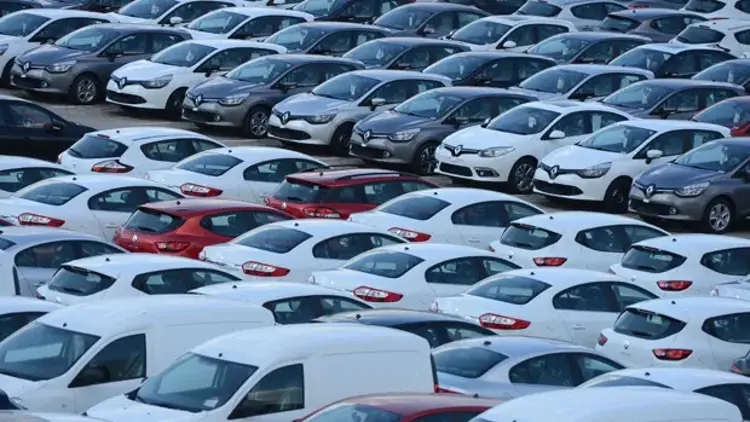Car: (83, 323, 439, 422), (0, 295, 276, 413), (435, 100, 638, 193), (533, 119, 731, 212), (431, 269, 661, 348), (349, 87, 539, 175), (267, 70, 452, 154), (182, 54, 364, 138), (11, 23, 193, 104), (106, 39, 288, 119), (309, 243, 525, 310), (199, 219, 408, 282), (433, 336, 632, 399), (0, 174, 187, 241), (348, 188, 550, 249), (594, 296, 750, 371), (628, 138, 750, 232), (489, 211, 672, 271), (36, 253, 243, 305), (114, 198, 293, 258), (146, 146, 329, 203), (471, 387, 743, 422), (577, 367, 750, 422), (0, 9, 120, 86), (57, 126, 229, 178), (265, 168, 440, 219), (609, 234, 750, 297), (0, 227, 126, 296), (190, 281, 372, 324), (308, 309, 495, 348), (0, 95, 103, 160), (598, 79, 748, 121), (295, 394, 506, 422), (503, 65, 654, 102), (178, 5, 317, 42), (421, 52, 560, 89), (440, 15, 578, 52), (609, 42, 739, 78), (340, 36, 471, 71), (372, 1, 493, 38), (264, 22, 392, 56), (525, 30, 653, 64), (104, 0, 247, 28), (596, 8, 710, 43), (512, 0, 630, 32), (668, 19, 750, 58), (0, 155, 76, 197), (0, 296, 69, 340), (293, 0, 412, 24), (690, 96, 750, 138), (691, 59, 750, 97), (680, 0, 750, 22), (433, 0, 527, 15), (0, 409, 105, 422), (38, 0, 133, 13), (705, 275, 750, 302), (618, 0, 690, 11), (0, 0, 45, 17), (243, 0, 304, 9), (730, 350, 750, 377)
